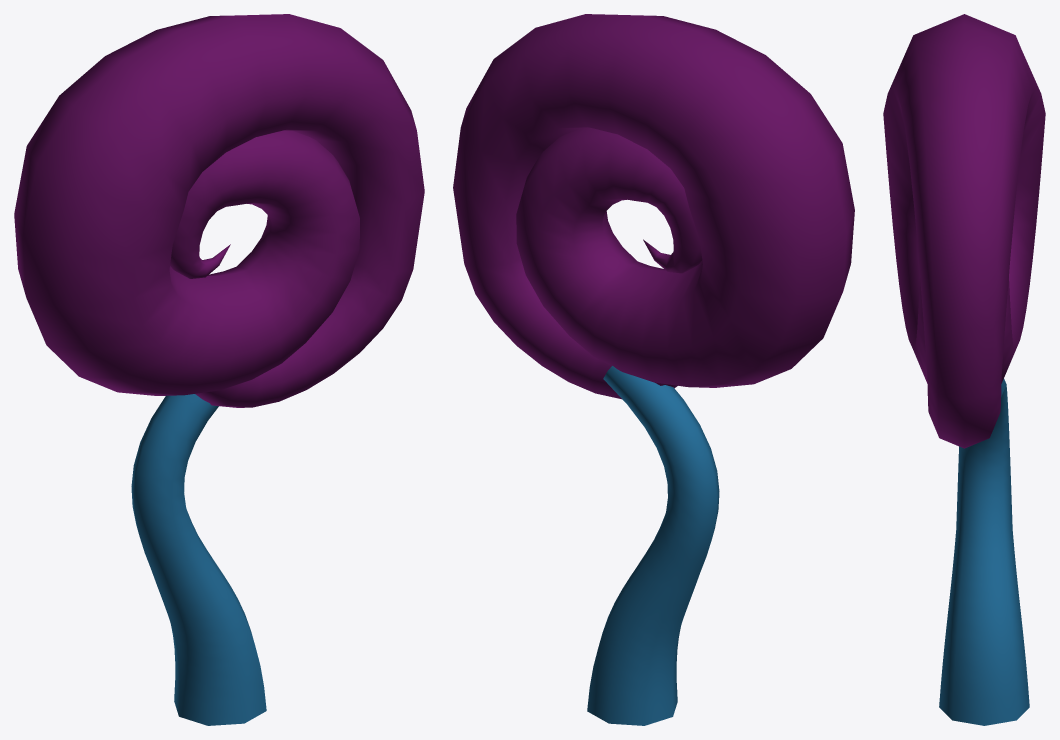
The model's file is Tree_Swirl_2.glb.
3 views of the same model, side by side, from view 1: azimuth 30°, elevation 25°; view 2: azimuth 150°, elevation 25°; view 3: azimuth 270°, elevation 25° (orthographic). The views are drawn at different scales.
Parts seen in each view (by area): view 1: Tree_Swirl_2; view 2: Tree_Swirl_2; view 3: Tree_Swirl_2.
Part boxes in pixels (left/top/right/bottom): Tree_Swirl_2: left=14, top=14, right=424, bottom=725; Tree_Swirl_2: left=453, top=14, right=854, bottom=725; Tree_Swirl_2: left=883, top=14, right=1045, bottom=725.
Size of the model in its own units: 3.07 by 5.15 by 1.15.
Materials: 1 (1 with a texture image).
